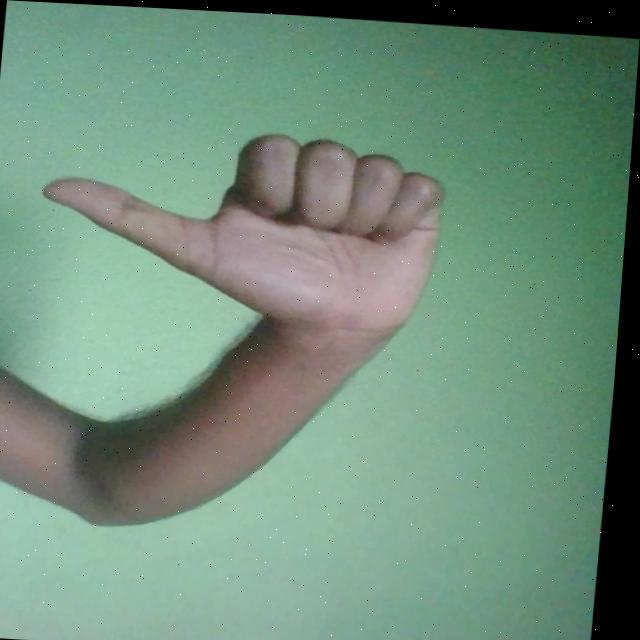Dislike: (34, 116, 453, 343)
